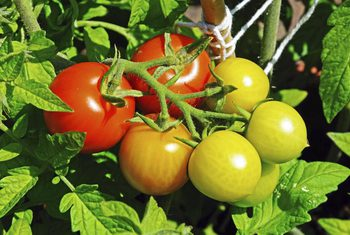tomato: (43, 62, 136, 155), (126, 32, 214, 118), (119, 114, 195, 196), (188, 128, 262, 204), (245, 100, 310, 164), (203, 57, 270, 116), (231, 161, 280, 207)
